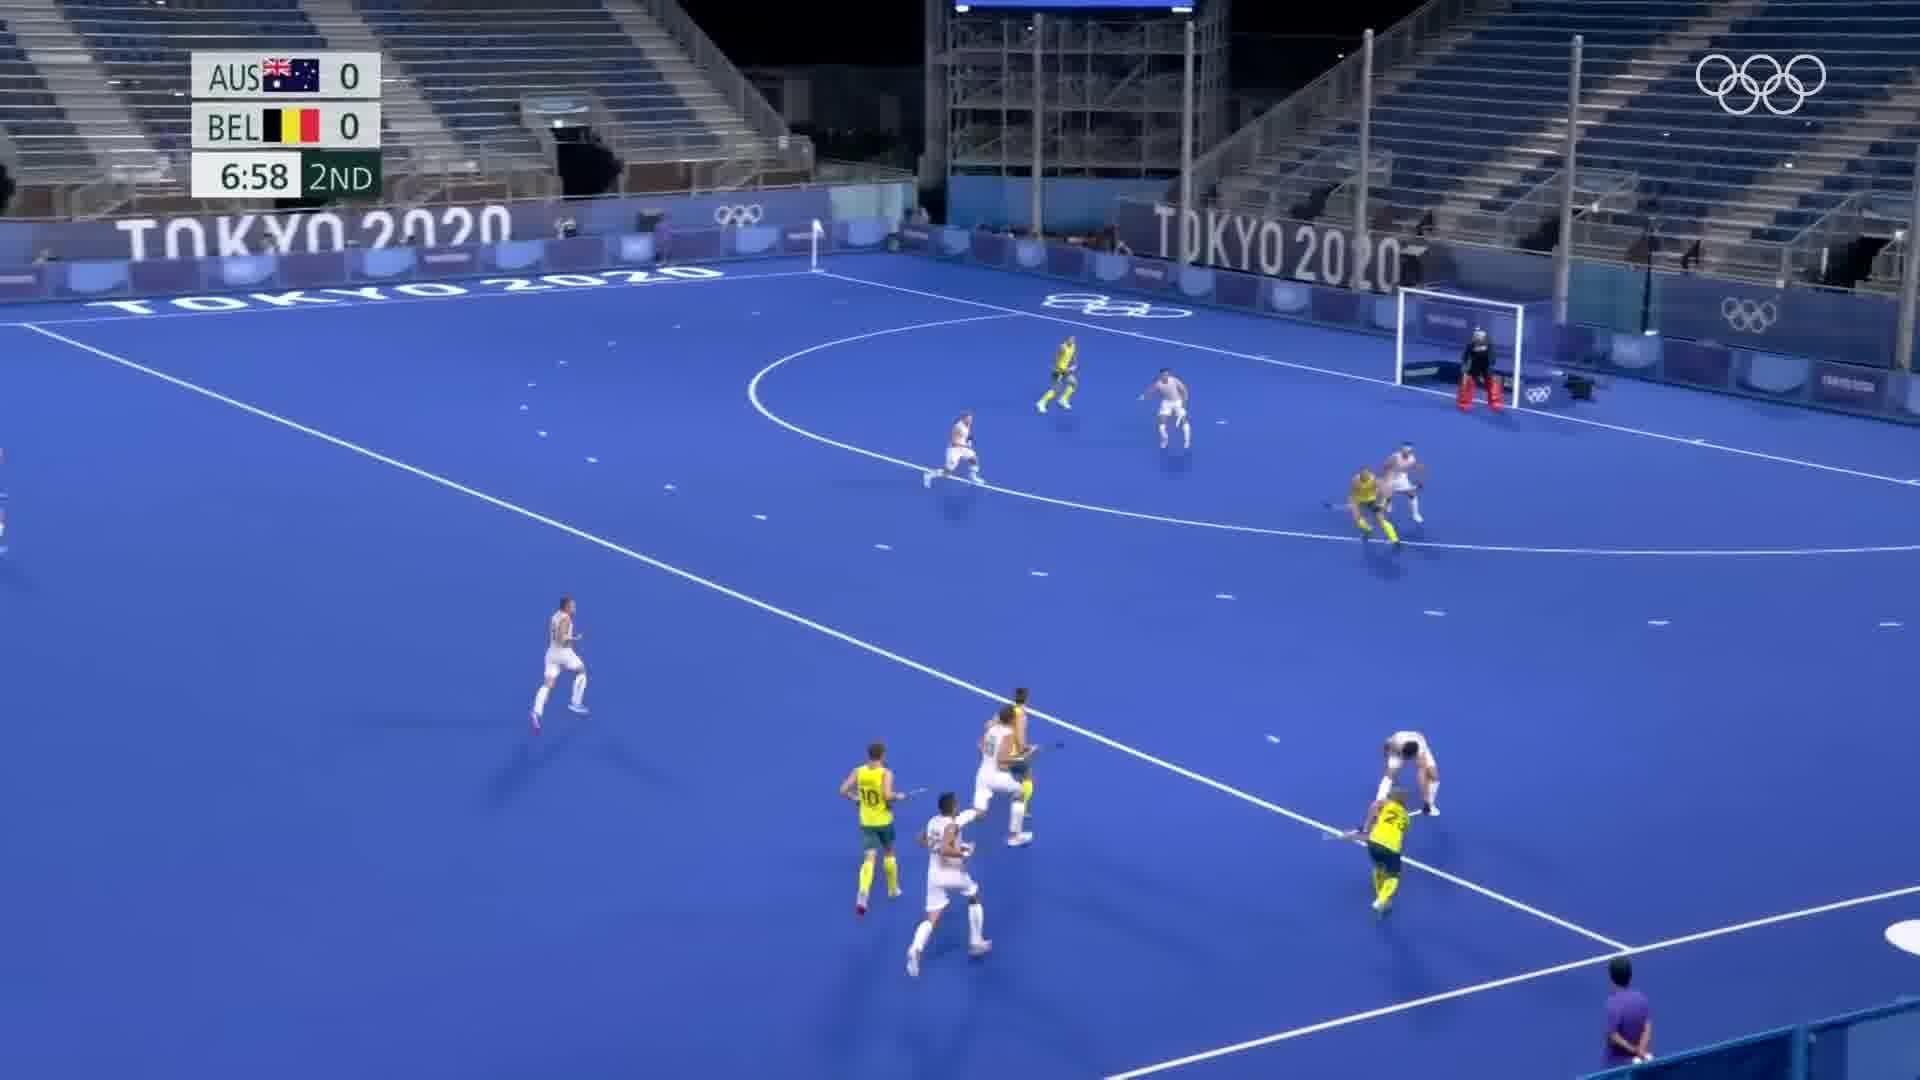ball: (1260, 725, 1286, 754)
